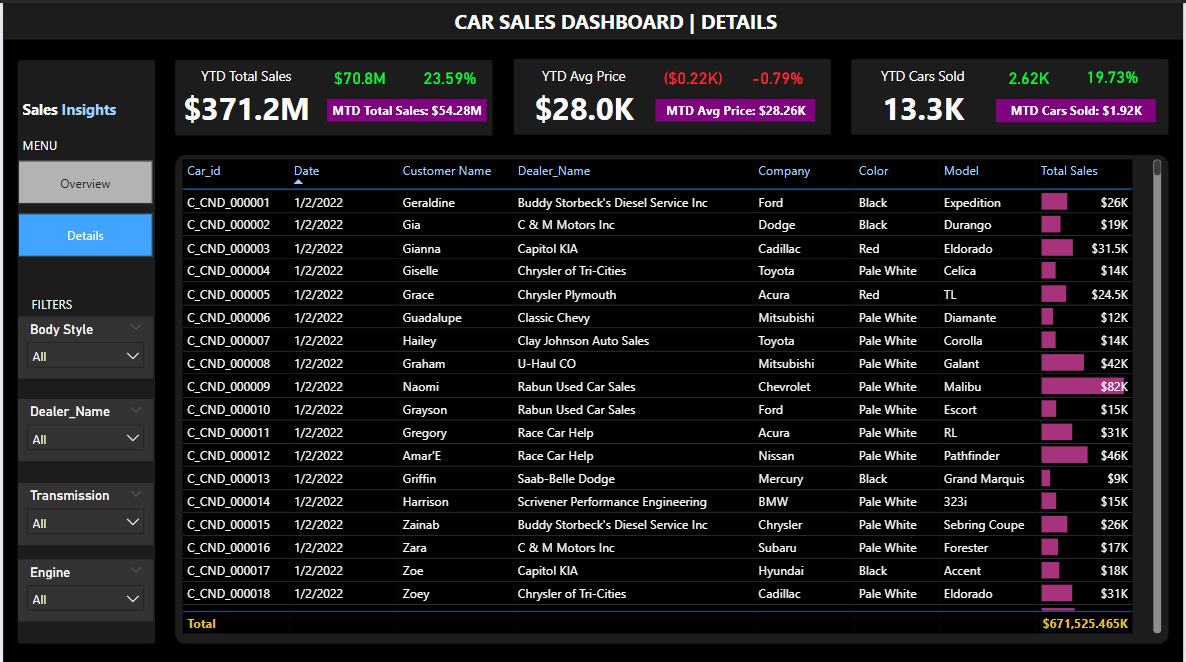

Layout of this report page (visuals, bound fields, positions):
{"tool":"powerbi","page":{"name":"Details","canvas":[1280,720],"ordinal":1},"visuals":[{"type":"card","title":"YTD Total Sales","fields":{"Values":["car_data.YTD Total Sales"]},"box":[188.1,67.6,149.9,72],"z":0},{"type":"card","fields":{"Values":["car_data.Sales Difference"]},"box":[346.8,63.2,80.8,36.7],"z":1000},{"type":"card","fields":{"Values":["car_data.YoY Sales Growth"]},"box":[443.8,63.2,80.8,36.7],"z":2000},{"type":"card","fields":{"Values":["car_data.MTD KPI"]},"box":[351.2,104.3,173.4,25],"z":3000},{"type":"card","title":"YTD Avg Price","fields":{"Values":["car_data.YTD Avg Price"]},"box":[555.4,67.6,149.9,72],"z":4000},{"type":"card","fields":{"Values":["car_data.Avg Price Diff"]},"box":[706.8,63.2,80.8,36.7],"z":5000},{"type":"card","fields":{"Values":["car_data.YoY Avg Price Growth"]},"box":[799.3,63.2,80.8,36.7],"z":6000},{"type":"card","fields":{"Values":["car_data.MTD Avg Price KPI"]},"box":[706.8,104.3,173.4,25],"z":7000},{"type":"card","title":"YTD Cars Sold","fields":{"Values":["car_data.YTD Cars Sold"]},"box":[922.8,67.6,149.9,72],"z":8000},{"type":"card","fields":{"Values":["car_data.Cars Sold Diff"]},"box":[1072.7,63.2,80.8,36.7],"z":9000},{"type":"card","fields":{"Values":["car_data.YoY Car Sold Growth"]},"box":[1162.3,61.7,79.3,38.2],"z":10000},{"type":"card","fields":{"Values":["car_data.MTD Cars Sold KPI"]},"box":[1076.2,103.7,173.4,25],"z":11000},{"type":"textbox","box":[484.9,0,395.3,39.7],"z":12000},{"type":"slicer","fields":{"Values":["car_data.Body Style"]},"box":[16.2,340.4,146.9,67.6],"z":13000},{"type":"slicer","fields":{"Values":["car_data.Dealer_Name"]},"box":[16.2,430.1,146.9,67.6],"z":14000},{"type":"slicer","fields":{"Values":["car_data.Transmission"]},"box":[16.2,519.7,146.9,67.6],"z":15000},{"type":"slicer","fields":{"Values":["car_data.Engine"]},"box":[16.2,603.5,146.9,67.6],"z":16000},{"type":"tableEx","fields":{"Values":["car_data.Car_id","car_data.Date","car_data.Customer Name","car_data.Dealer_Name","car_data.Company","car_data.Color","car_data.Model","Sum(car_data.Price ($))"]},"box":[188.1,164.6,1072.7,524.6],"z":18000},{"type":"textbox","box":[26.2,312.7,63.2,30.9],"z":18001},{"type":"pageNavigator","box":[16.2,170.4,146.9,104.3],"z":18002},{"type":"textbox","box":[16.2,99.9,132.2,42.6],"z":18003},{"type":"textbox","box":[16.2,139.6,63.2,30.9],"z":18004}]}

Visuals, with their boxes in screenshot pixels (x1, y1, x2, y2), scaled from the page's 1280x720 canvas onto the 1186x662 screenshot:
"YTD Total Sales" card: x1=174 y1=62 x2=313 y2=128
card - car_data.Sales Difference: x1=321 y1=58 x2=396 y2=92
card - car_data.YoY Sales Growth: x1=411 y1=58 x2=486 y2=92
card - car_data.MTD KPI: x1=325 y1=96 x2=486 y2=119
"YTD Avg Price" card: x1=515 y1=62 x2=654 y2=128
card - car_data.Avg Price Diff: x1=655 y1=58 x2=730 y2=92
card - car_data.YoY Avg Price Growth: x1=741 y1=58 x2=815 y2=92
card - car_data.MTD Avg Price KPI: x1=655 y1=96 x2=816 y2=119
"YTD Cars Sold" card: x1=855 y1=62 x2=994 y2=128
card - car_data.Cars Sold Diff: x1=994 y1=58 x2=1069 y2=92
card - car_data.YoY Car Sold Growth: x1=1077 y1=57 x2=1150 y2=92
card - car_data.MTD Cars Sold KPI: x1=997 y1=95 x2=1158 y2=118
textbox: x1=449 y1=0 x2=816 y2=37
slicer - car_data.Body Style: x1=15 y1=313 x2=151 y2=375
slicer - car_data.Dealer_Name: x1=15 y1=395 x2=151 y2=458
slicer - car_data.Transmission: x1=15 y1=478 x2=151 y2=540
slicer - car_data.Engine: x1=15 y1=555 x2=151 y2=617
tableEx - car_data.Car_id x car_data.Date: x1=174 y1=151 x2=1168 y2=634
textbox: x1=24 y1=288 x2=83 y2=316
pageNavigator: x1=15 y1=157 x2=151 y2=253
textbox: x1=15 y1=92 x2=138 y2=131
textbox: x1=15 y1=128 x2=74 y2=157
